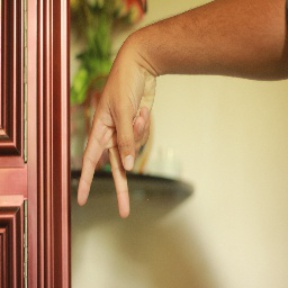Y: (71, 62, 155, 224)
